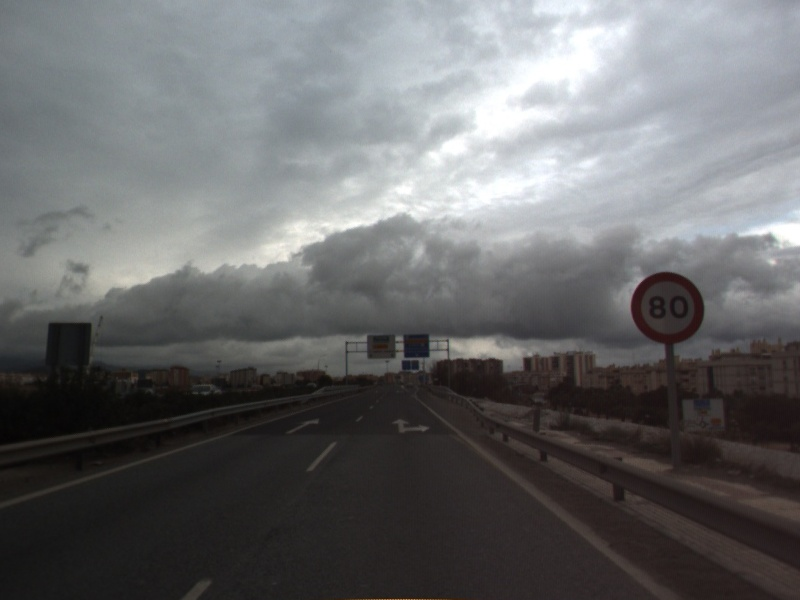STRAIGHT: (283, 415, 322, 436)
STRAIGHT_RIGHT: (390, 416, 432, 435)
